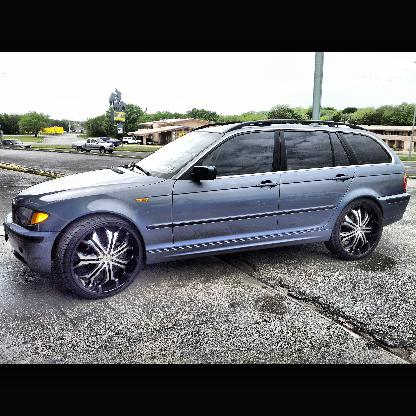BMW 3 Series Wagon 2012: (4, 121, 411, 301)
